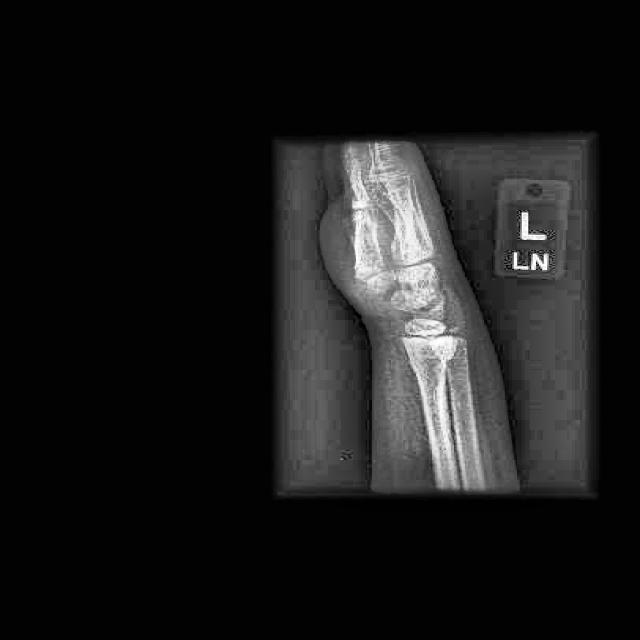fingers positive: (396, 341, 466, 370)
